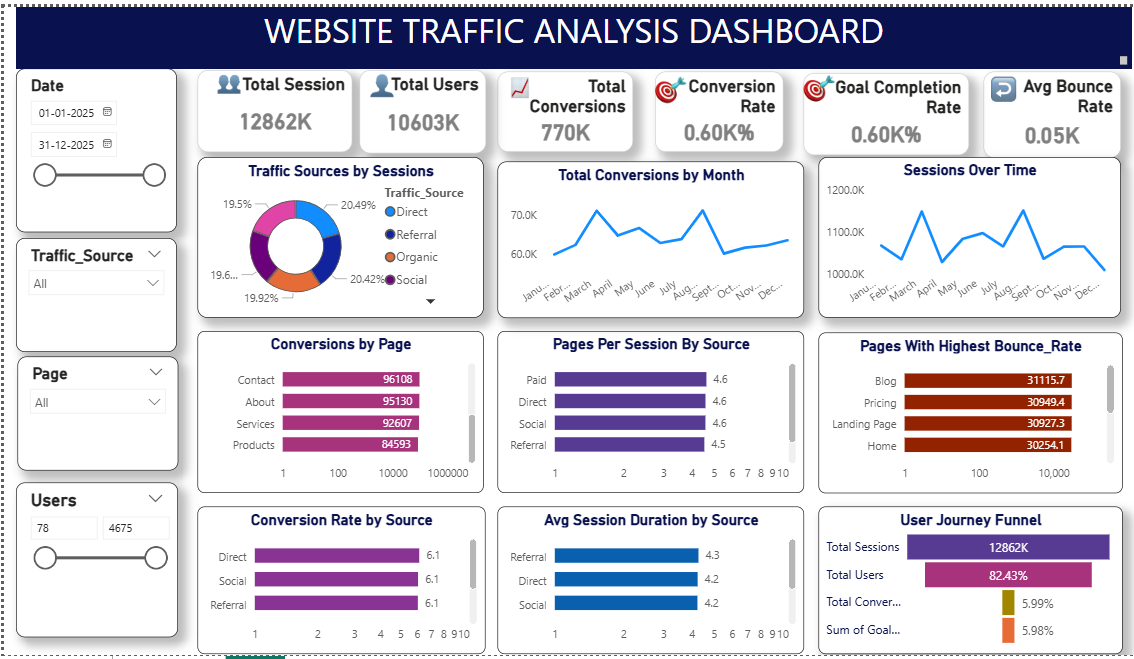

The page's visual inventory and layout, read from the dashboard file:
{"tool":"powerbi","page":{"name":"Page 1","canvas":[1280,720],"ordinal":0},"visuals":[{"type":"card","title":"Total Conversions","fields":{"Values":["Website_Traffic_Big_Dataset.Total Conversions"]},"box":[548.3,71.2,150.7,89.4],"z":0},{"type":"card","title":"Total Session ","fields":{"Values":["Website_Traffic_Big_Dataset.Total Sessions"]},"box":[215.3,69.6,172.3,91.1],"z":1000},{"type":"card","title":"Conversion Rate","fields":{"Values":["Website_Traffic_Big_Dataset.Conversion Rate"]},"box":[723.9,71.2,142.5,89.4],"z":2000},{"type":"card","title":"Avg Bounce Rate","fields":{"Values":["Website_Traffic_Big_Dataset.Avg Bounce Rate"]},"box":[1088.3,71.2,152.4,96.1],"z":3000},{"type":"card","title":"Total Users","fields":{"Values":["Website_Traffic_Big_Dataset.Total Users"]},"box":[394.2,69.6,140.8,92.8],"z":4000},{"type":"card","title":"Goal Completion Rate","fields":{"Values":["Website_Traffic_Big_Dataset.Goal Completion Rate"]},"box":[887.9,72.9,183.9,91.1],"z":5000},{"type":"donutChart","title":"Traffic Sources by Sessions","fields":{"Category":["Website_Traffic_Big_Dataset.Traffic_Source"],"Y":["Sum(Website_Traffic_Big_Dataset.Sessions)"]},"box":[215.3,167.3,318,178.9],"z":6000},{"type":"clusteredBarChart","title":"Avg Session Duration by Source","fields":{"Category":["Website_Traffic_Big_Dataset.Traffic_Source"],"Y":["Website_Traffic_Big_Dataset.Avg Session Duration"]},"box":[547.5,555.7,341,163.9],"z":7000},{"type":"clusteredBarChart","title":"Pages Per Session By Source","fields":{"Category":["Website_Traffic_Big_Dataset.Traffic_Source"],"Y":["Website_Traffic_Big_Dataset.Avg Pages/Session"]},"box":[547.5,360.7,341,180.3],"z":8000},{"type":"lineChart","title":"Sessions Over Time","fields":{"Category":["Website_Traffic_Big_Dataset.Date.Variation.Date Hierarchy.Month"],"Y":["Website_Traffic_Big_Dataset.Total Sessions"]},"box":[904.9,167.2,336.1,178.7],"z":9000},{"type":"lineChart","fields":{"Category":["Website_Traffic_Big_Dataset.Date.Variation.Date Hierarchy.Month"],"Y":["Website_Traffic_Big_Dataset.Total Conversions"]},"box":[547.5,172.1,341,173.8],"z":10000},{"type":"barChart","title":" Conversions by Page","fields":{"Category":["Website_Traffic_Big_Dataset.Page"],"Y":["Website_Traffic_Big_Dataset.Total Conversions"]},"box":[214.8,360.7,318,180.3],"z":11000},{"type":"barChart","title":"Pages With Highest Bounce_Rate ","fields":{"Category":["Website_Traffic_Big_Dataset.Page"],"Y":["Sum(Website_Traffic_Big_Dataset.Bounce_Rate)"]},"box":[904.9,362.3,337.7,178.7],"z":12000},{"type":"slicer","fields":{"Values":["Website_Traffic_Big_Dataset.Date"]},"box":[13.3,68.3,178.3,181.7],"z":13000},{"type":"slicer","fields":{"Values":["Website_Traffic_Big_Dataset.Traffic_Source"]},"box":[13.3,256.7,178.3,126.7],"z":14000},{"type":"slicer","fields":{"Values":["Website_Traffic_Big_Dataset.Page"]},"box":[15,388.3,178.3,126.7],"z":15000},{"type":"textbox","title":"WEBSITE TRAFFIC ANALYSIS DASHBOARD","box":[13.1,0,1239.3,68.9],"z":16000},{"type":"image","box":[236.9,56.3,26.5,53],"z":17000},{"type":"image","box":[405.8,61.3,26.5,51.4],"z":18000},{"type":"image","box":[561.5,69.6,23.2,39.8],"z":19000},{"type":"image","box":[887.9,56.3,34.8,62.9],"z":20000},{"type":"image","box":[723.9,71.2,34.8,36.4],"z":21000},{"type":"image","box":[1096.6,69.6,28.2,43.1],"z":22000},{"type":"funnel","title":"User Journey Funnel","fields":{"Y":["Website_Traffic_Big_Dataset.Total Sessions","Website_Traffic_Big_Dataset.Total Users","Website_Traffic_Big_Dataset.Total Conversions","Sum(Website_Traffic_Big_Dataset.Goal_Completions)"]},"box":[904.9,555.7,337.7,163.9],"z":23000},{"type":"clusteredBarChart","title":"Conversion Rate by Source","fields":{"Category":["Website_Traffic_Big_Dataset.Traffic_Source"],"Y":["Website_Traffic_Big_Dataset.Conversion Rate"]},"box":[214.8,555.7,319.7,163.9],"z":23001},{"type":"slicer","fields":{"Values":["Website_Traffic_Big_Dataset.Users"]},"box":[13.3,528.3,180,171.7],"z":23002}]}

Visuals, with their boxes in screenshot pixels (x1, y1, x2, y2):
"Total Conversions" card: bbox=(494, 67, 630, 148)
"Total Session " card: bbox=(192, 66, 348, 149)
"Conversion Rate" card: bbox=(653, 67, 782, 148)
"Avg Bounce Rate" card: bbox=(983, 67, 1121, 154)
"Total Users" card: bbox=(354, 66, 482, 150)
"Goal Completion Rate" card: bbox=(801, 69, 968, 152)
"Traffic Sources by Sessions" donutChart: bbox=(192, 154, 480, 317)
"Avg Session Duration by Source" clusteredBarChart: bbox=(493, 506, 802, 655)
"Pages Per Session By Source" clusteredBarChart: bbox=(493, 330, 802, 493)
"Sessions Over Time" lineChart: bbox=(817, 154, 1121, 316)
lineChart - Website_Traffic_Big_Dataset.Date.Variation.Date Hierarchy.Month x Website_Traffic_Big_Dataset.Total Conversions: bbox=(493, 159, 802, 316)
" Conversions by Page" barChart: bbox=(192, 330, 480, 493)
"Pages With Highest Bounce_Rate " barChart: bbox=(817, 331, 1123, 493)
slicer - Website_Traffic_Big_Dataset.Date: bbox=(9, 65, 171, 229)
slicer - Website_Traffic_Big_Dataset.Traffic_Source: bbox=(9, 235, 171, 350)
slicer - Website_Traffic_Big_Dataset.Page: bbox=(11, 355, 172, 469)
"WEBSITE TRAFFIC ANALYSIS DASHBOARD" textbox: bbox=(9, 3, 1131, 65)
image: bbox=(212, 54, 236, 102)
image: bbox=(365, 58, 389, 105)
image: bbox=(506, 66, 527, 102)
image: bbox=(801, 54, 833, 111)
image: bbox=(653, 67, 684, 100)
image: bbox=(990, 66, 1016, 105)
"User Journey Funnel" funnel: bbox=(817, 506, 1123, 655)
"Conversion Rate by Source" clusteredBarChart: bbox=(192, 506, 481, 655)
slicer - Website_Traffic_Big_Dataset.Users: bbox=(9, 481, 172, 637)
